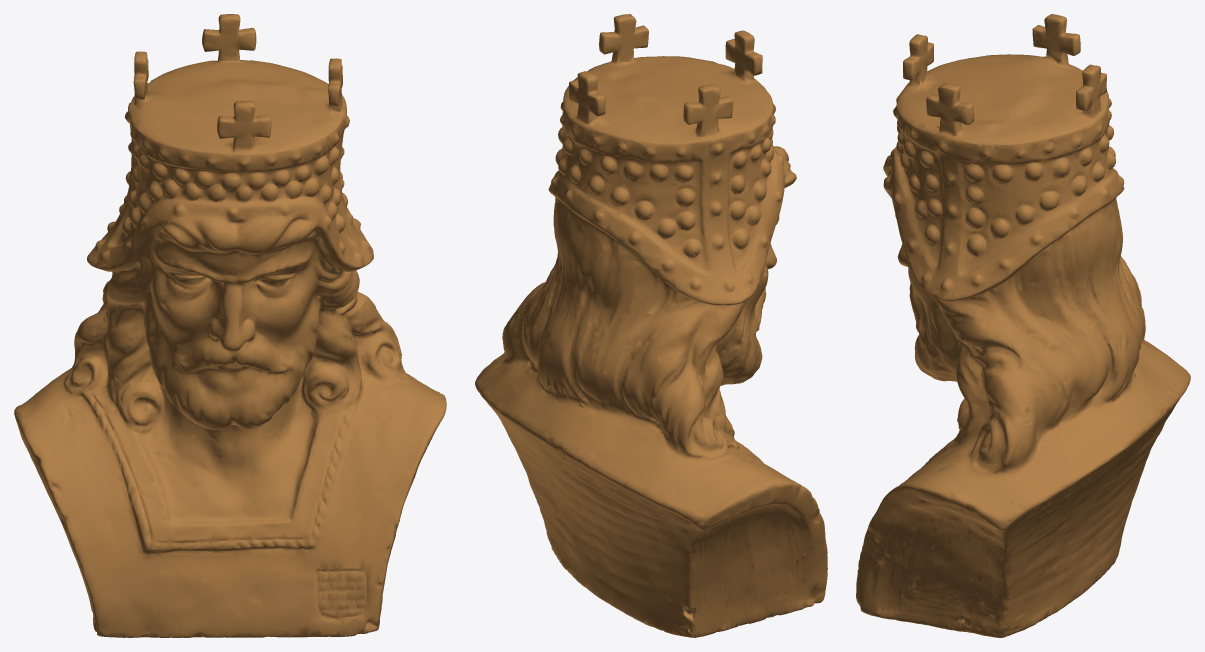
The model's file is tomislav-bista.glb.
3 views of the same model, side by side, from view 1: azimuth 30°, elevation 25°; view 2: azimuth 150°, elevation 25°; view 3: azimuth 270°, elevation 25° (orthographic). The views are drawn at different scales.
Parts seen in each view (by area): view 1: world; view 2: world; view 3: world.
Boxes of the visible parts, x1=… form: world: x1=14, y1=14, x2=446, y2=637; world: x1=475, y1=14, x2=827, y2=637; world: x1=856, y1=14, x2=1190, y2=637.
Size of the model in its own units: 1.41 by 2 by 1.14.
